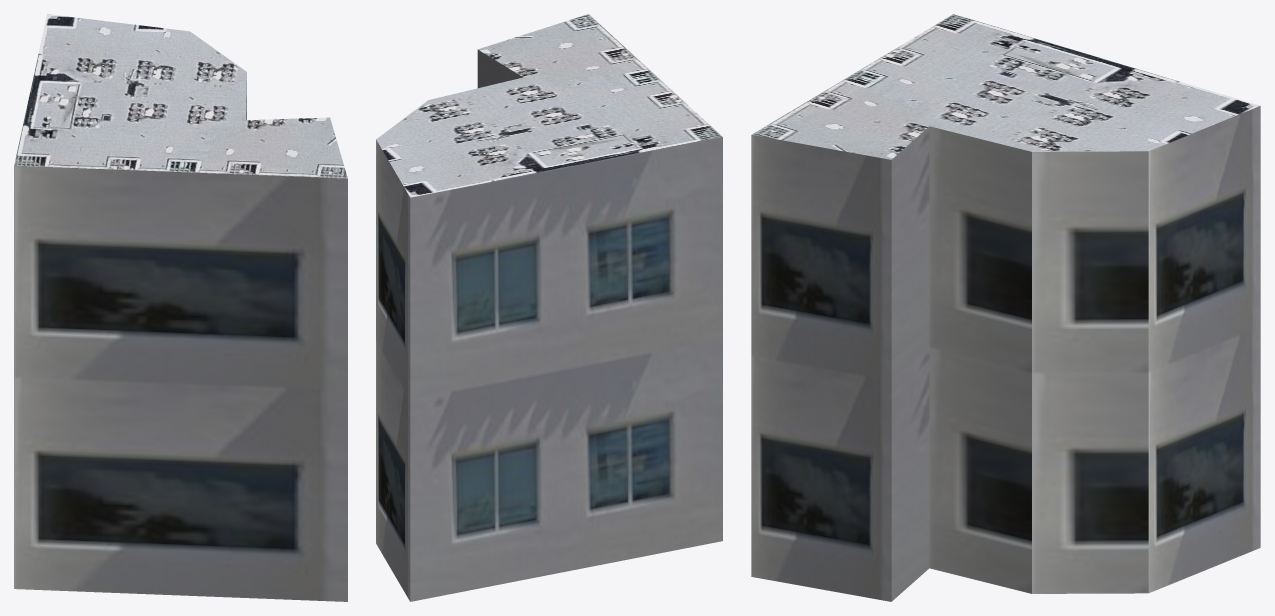
The model's file is ResTex__5151.fbx.
The picture shows the model from 3 angles, left to right: view 1: azimuth 30°, elevation 25°; view 2: azimuth 150°, elevation 25°; view 3: azimuth 270°, elevation 25°; orthographic projection. The views are drawn at different scales.
Visible parts, largest first — view 1: CityEngineMaterial_10_m, CityEngineMaterial_4_m; view 2: CityEngineMaterial_10_m, CityEngineMaterial_4_m; view 3: CityEngineMaterial_10_m, CityEngineMaterial_4_m.
Part boxes in pixels (x1=…): CityEngineMaterial_10_m: x1=14, y1=82, x2=347, y2=601; CityEngineMaterial_4_m: x1=14, y1=14, x2=347, y2=178; CityEngineMaterial_10_m: x1=376, y1=50, x2=722, y2=601; CityEngineMaterial_4_m: x1=376, y1=14, x2=722, y2=197; CityEngineMaterial_10_m: x1=751, y1=106, x2=1260, y2=601; CityEngineMaterial_4_m: x1=751, y1=14, x2=1260, y2=159.
Bounding box in the file's own units: 4.25 × 6 × 6.26.
Materials: 2 (2 with a texture image).
